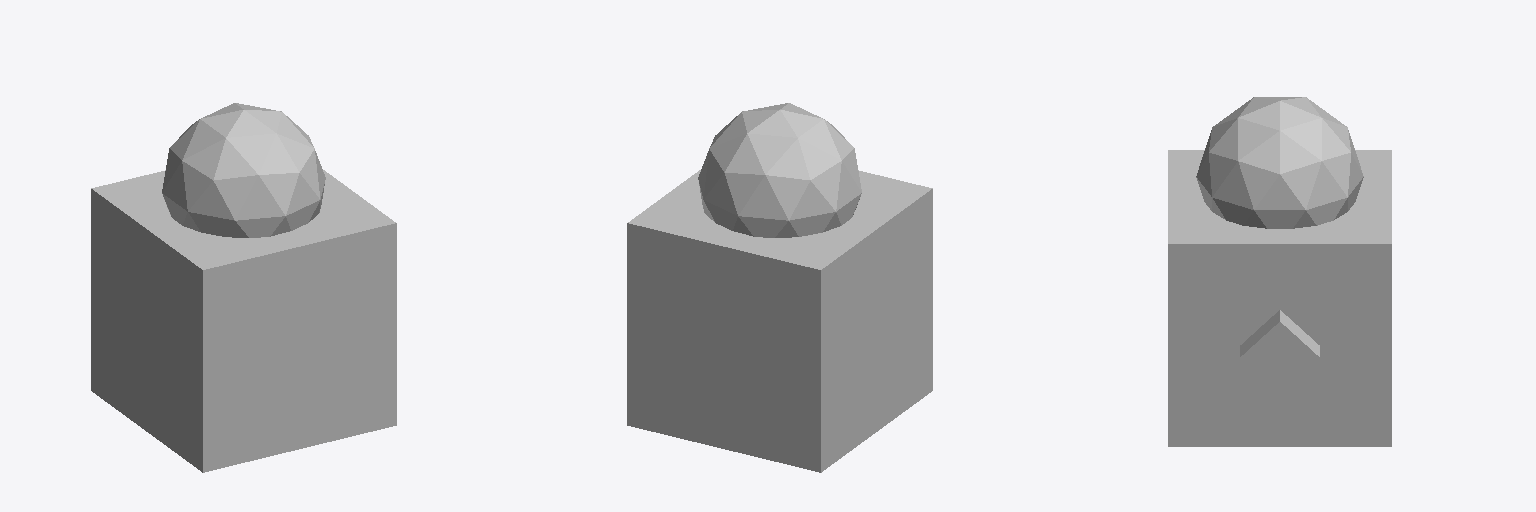
3 renders of one model, left to right at view 1: azimuth 30°, elevation 25°; view 2: azimuth 150°, elevation 25°; view 3: azimuth 270°, elevation 25°, orthographic.
Visible parts, largest first — view 1: Cube_Large, Sphere; view 2: Cube_Large, Sphere; view 3: Cube_Large, Sphere, Cube_Small.
Boxes of the visible parts, x1=… form: Cube_Large: x1=91, y1=170, x2=396, y2=472; Sphere: x1=162, y1=103, x2=325, y2=237; Cube_Large: x1=627, y1=170, x2=932, y2=472; Sphere: x1=698, y1=103, x2=861, y2=237; Cube_Large: x1=1168, y1=150, x2=1391, y2=446; Sphere: x1=1196, y1=97, x2=1363, y2=228; Cube_Small: x1=1240, y1=310, x2=1319, y2=392.
Bounding box in the file's own units: 2.25 × 2.95 × 2.